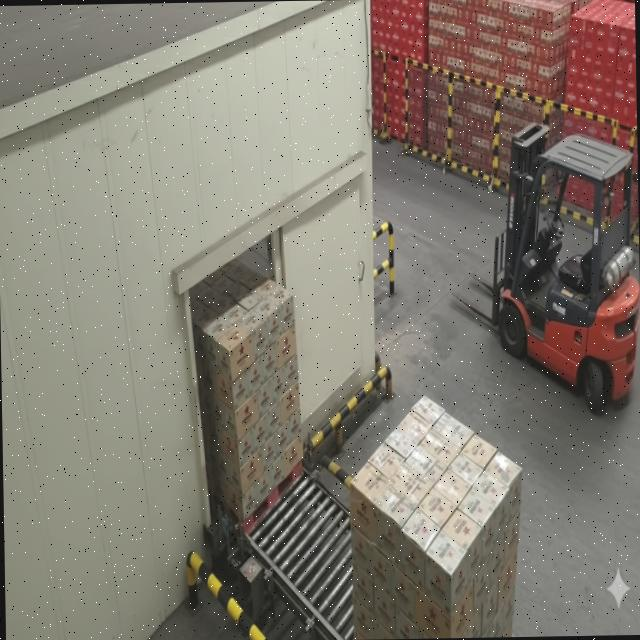pallet: (342, 384, 528, 640), (166, 254, 312, 537)
